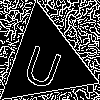U: (20, 36, 68, 92)
